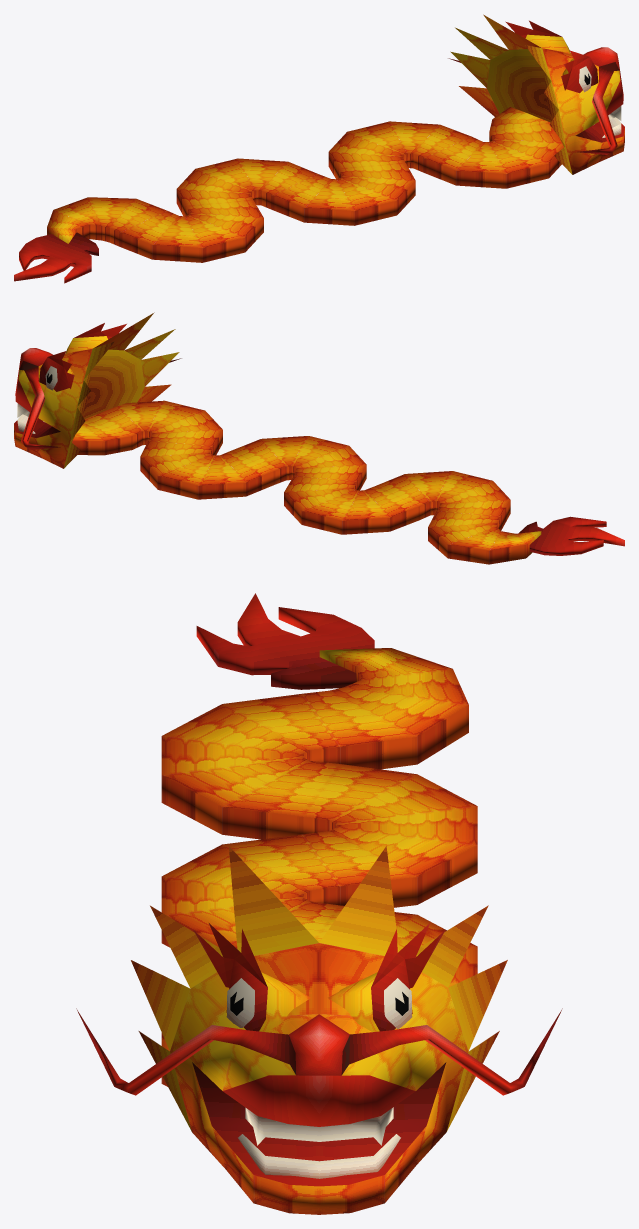
File: Dragon.glb
3 views of the same model, one above another, from view 1: azimuth 30°, elevation 25°; view 2: azimuth 150°, elevation 25°; view 3: azimuth 270°, elevation 25° (orthographic). The views are drawn at different scales.
Visible parts, largest first — view 1: Dragon; view 2: Dragon; view 3: Dragon.
Boxes of the visible parts, box(x1,y1,x2,y2) form: Dragon: box(14, 14, 624, 283); Dragon: box(14, 312, 624, 564); Dragon: box(76, 593, 562, 1214).
Size of the model in its own units: 11.74 by 2.48 by 4.21.
1 material, 1 textured.
